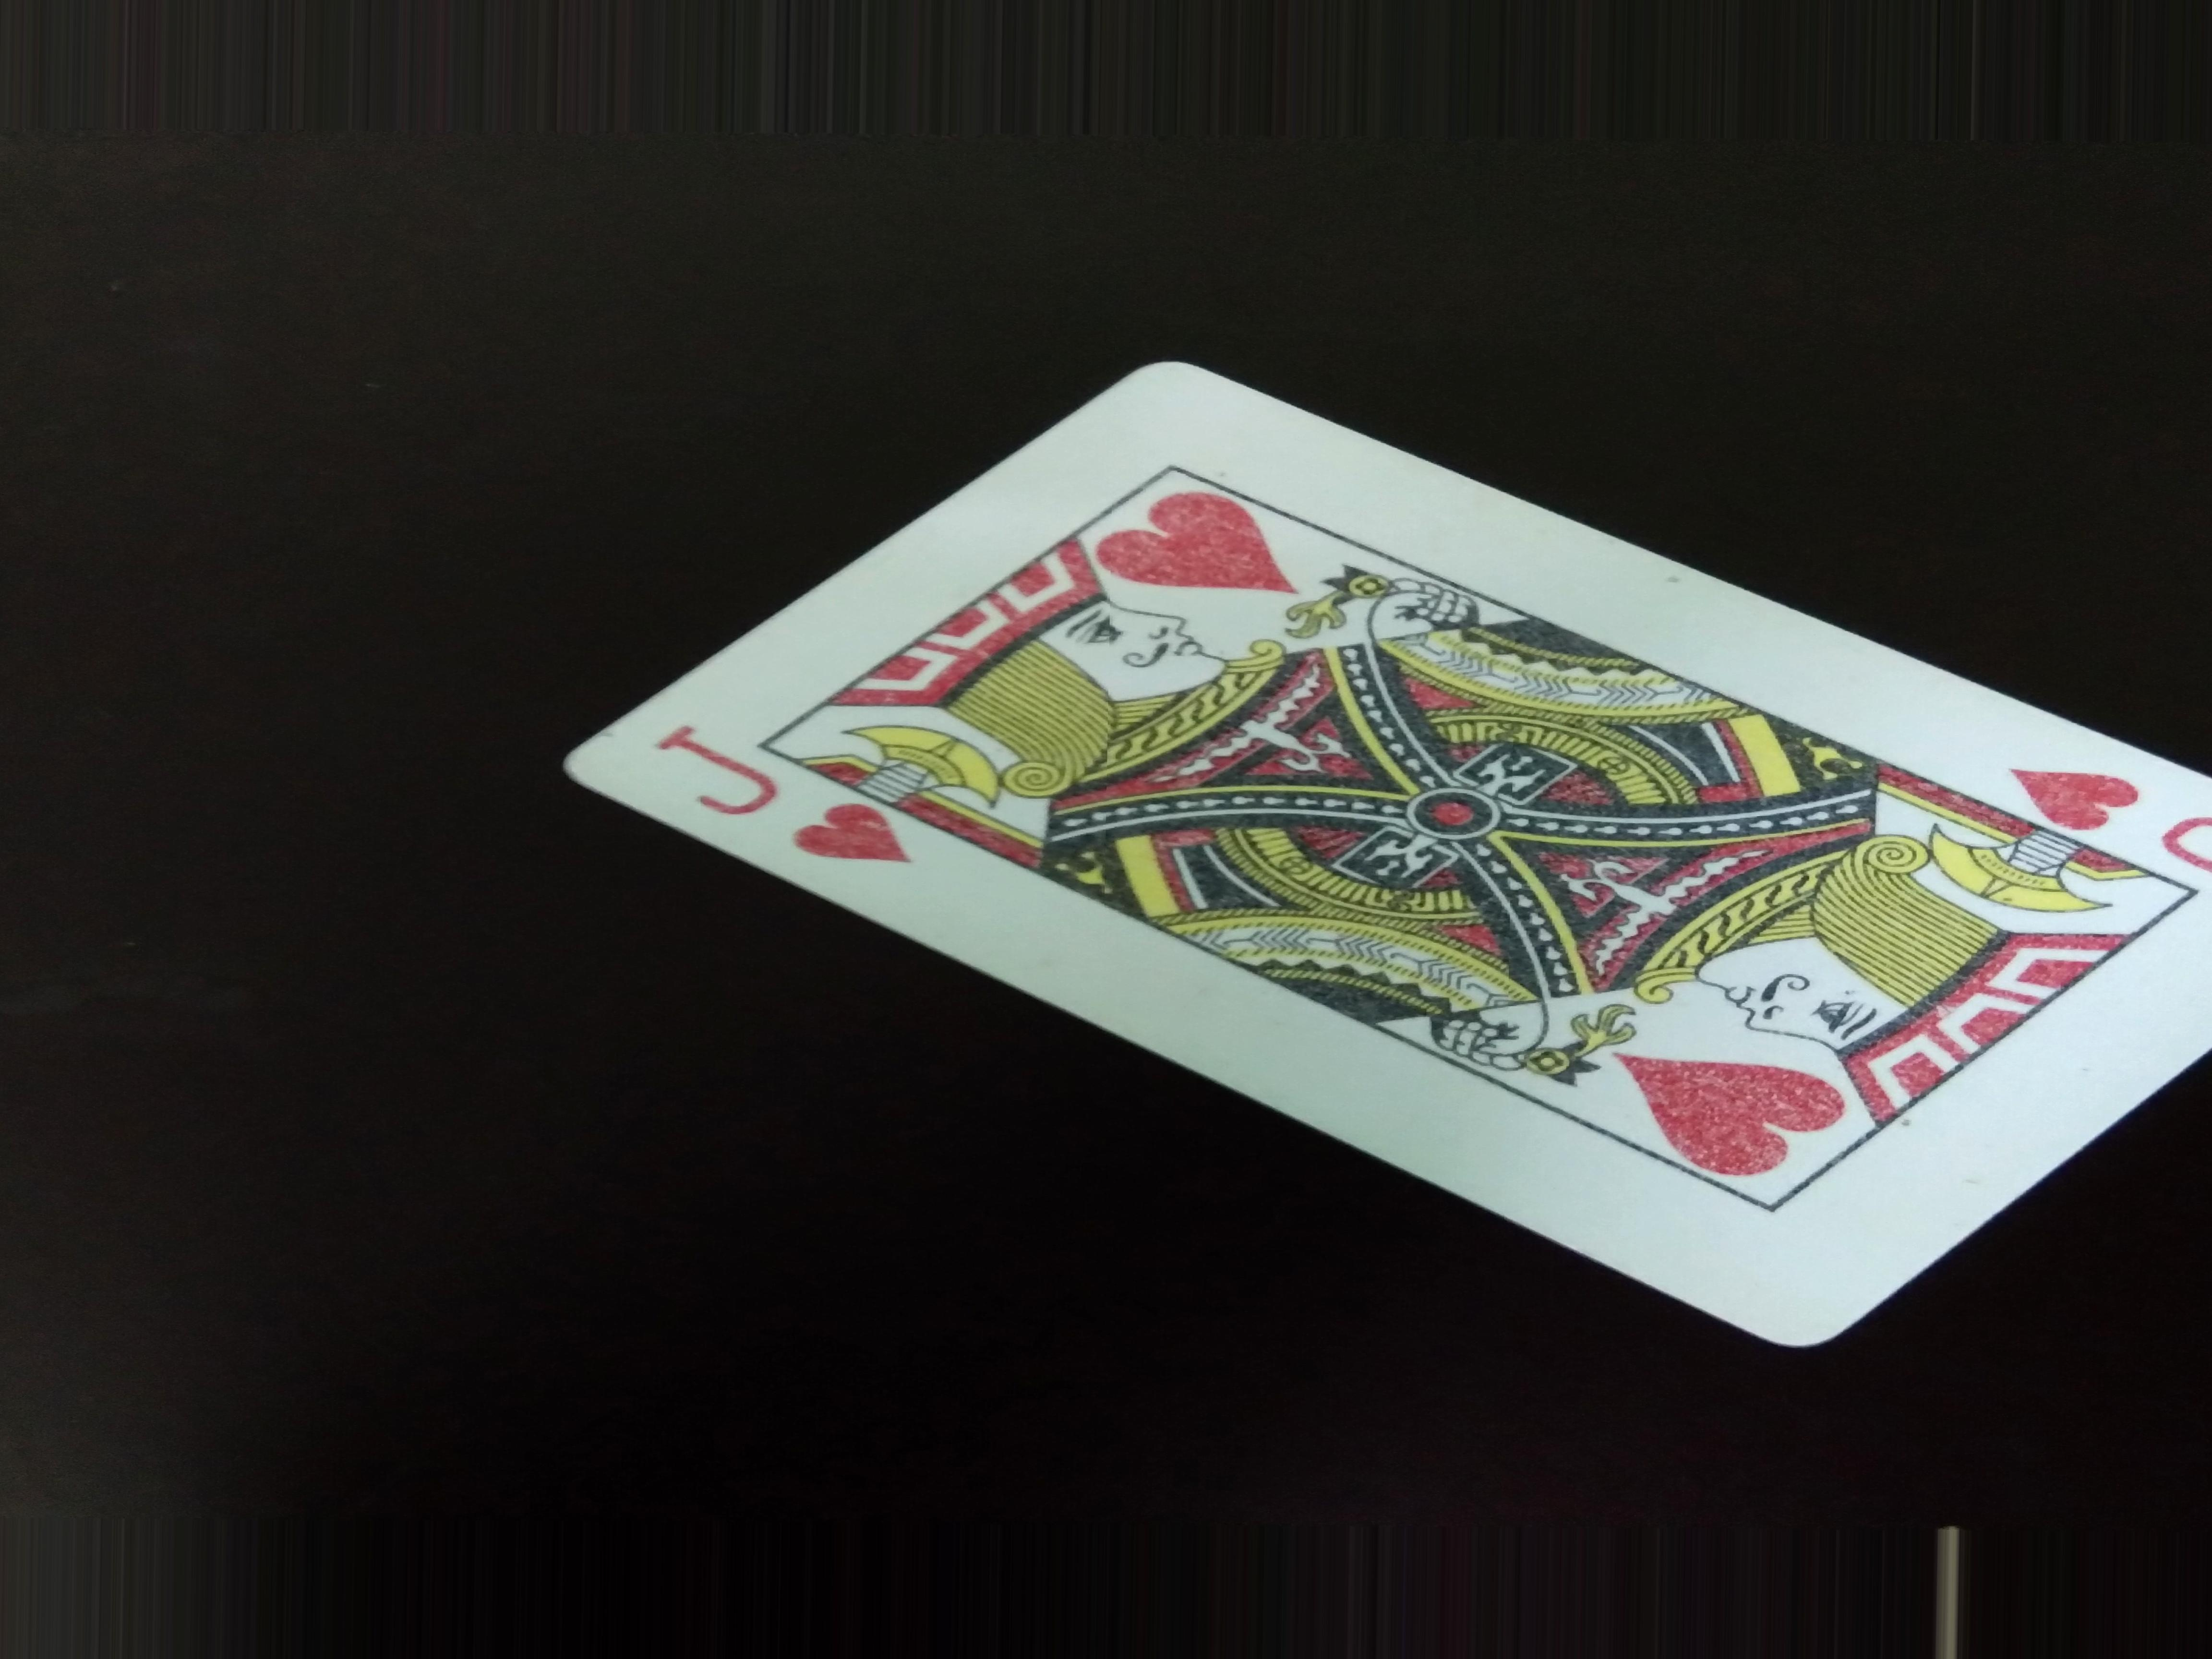JH: (653, 720, 914, 880)
